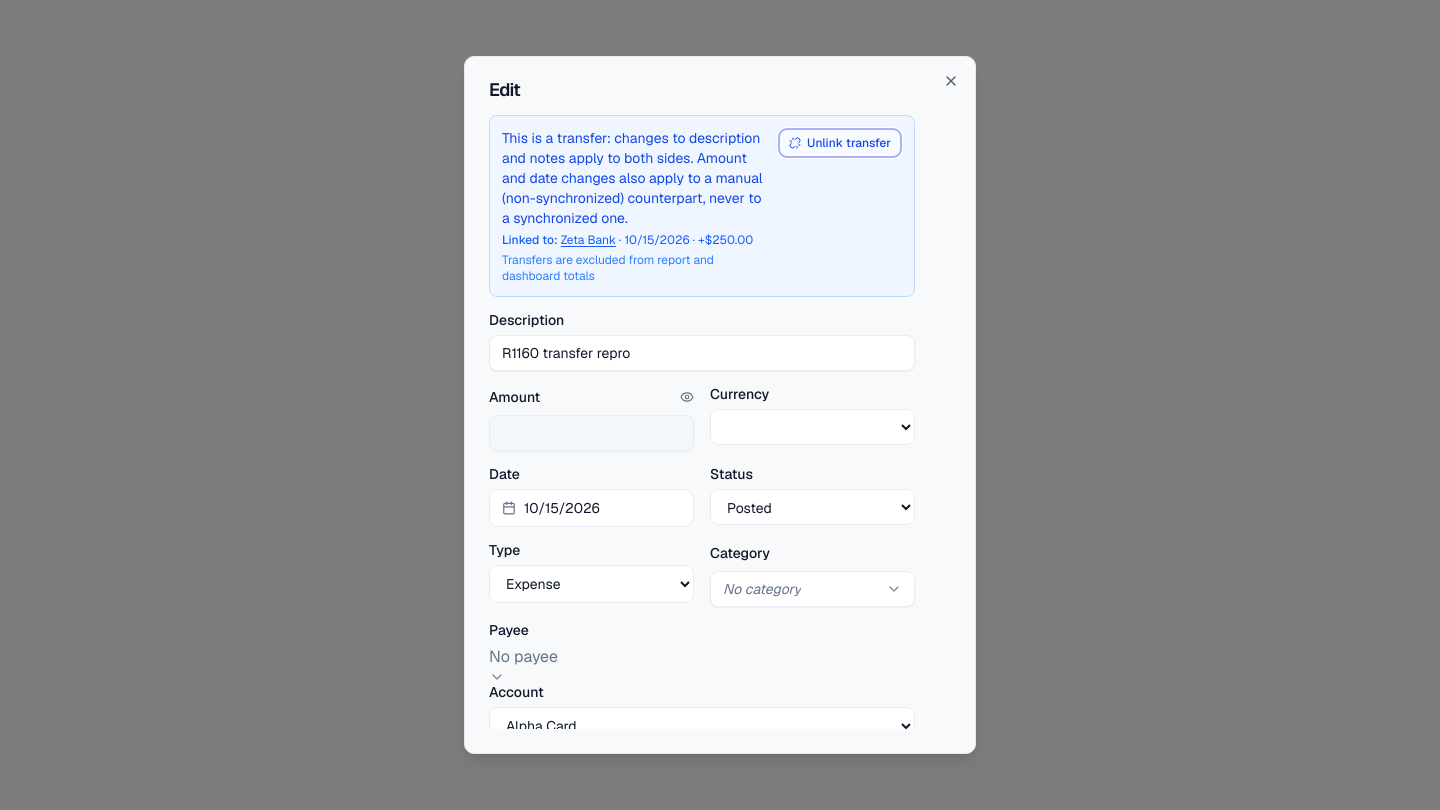
Test: asks for confirmation before unlinking a transfer pair
Step 1. Click the button "Unlink transfer" → [840, 143], box [778,128,902,158]
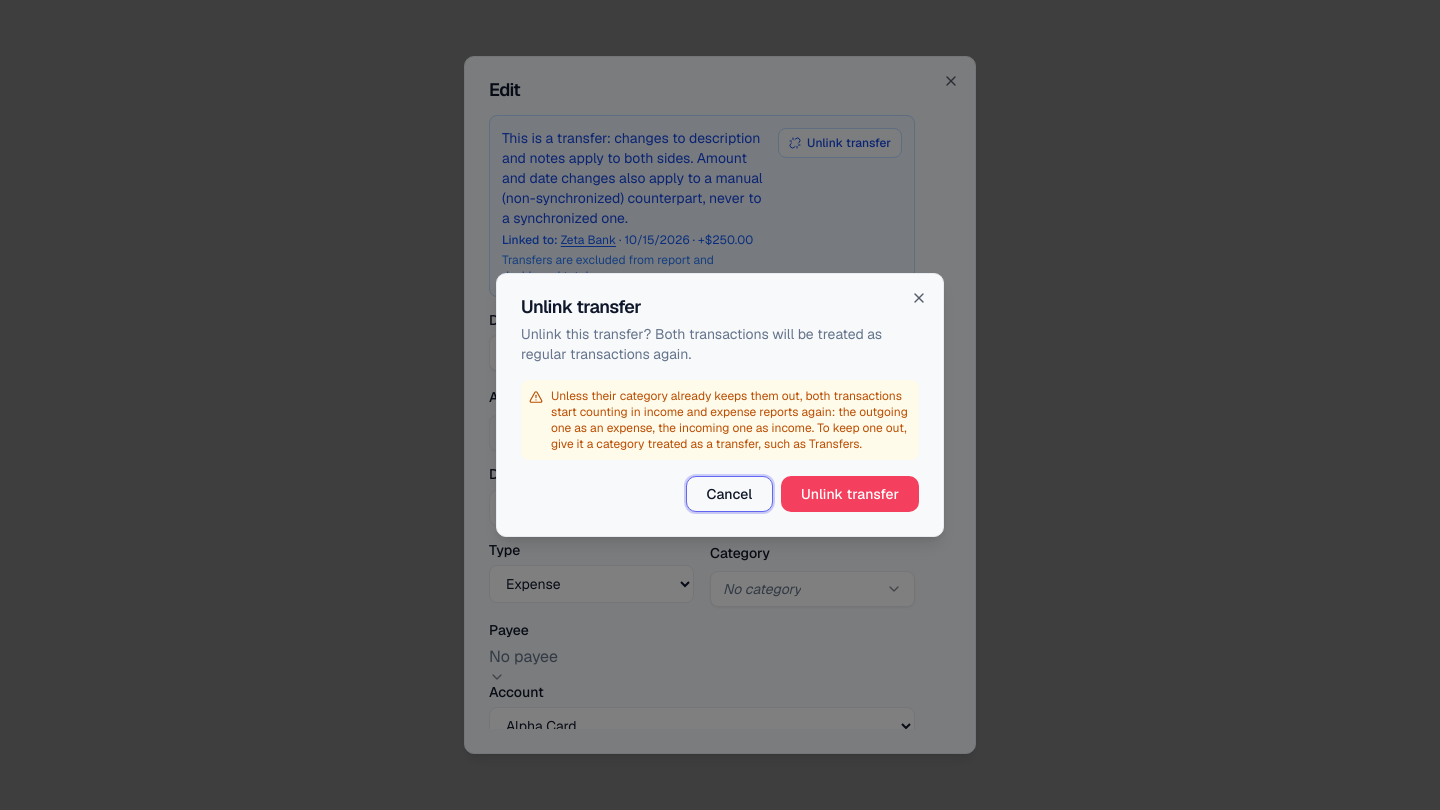
Expected: the text "Unlink this transfer? Both transactions will be treated as regular transactions again." is shown, [521,325,882,363]
